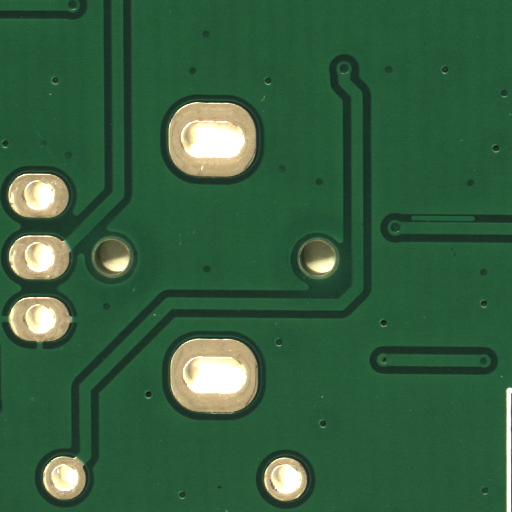Spurious_copper: (443, 217, 512, 227)
